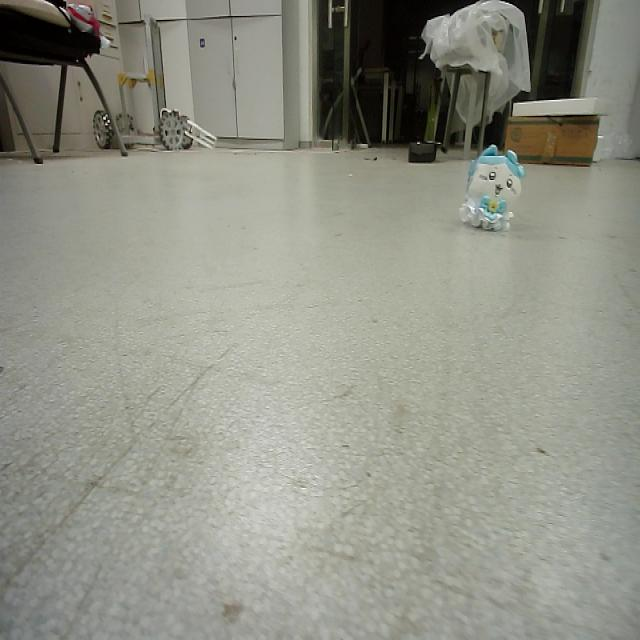xiaoba: (461, 144, 525, 236)
